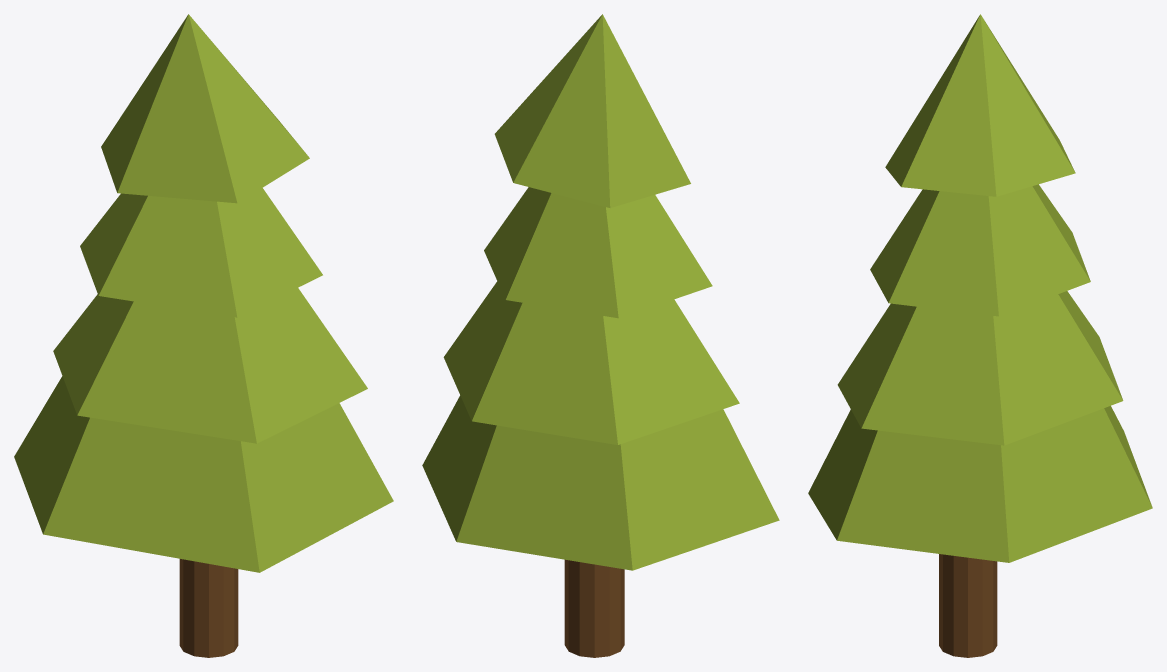
File: Conifer3.fbx
The picture shows the model from 3 angles, left to right: view 1: azimuth 30°, elevation 25°; view 2: azimuth 150°, elevation 25°; view 3: azimuth 270°, elevation 25°; orthographic projection. The views are drawn at different scales.
Parts seen in each view (by area): view 1: Cone.001; view 2: Cone.001; view 3: Cone.001.
Part boxes in pixels (bbox=[...]): Cone.001: bbox=[14, 14, 393, 657]; Cone.001: bbox=[422, 14, 779, 657]; Cone.001: bbox=[808, 14, 1152, 657].
Size of the model in its own units: 669 by 1247 by 624.
